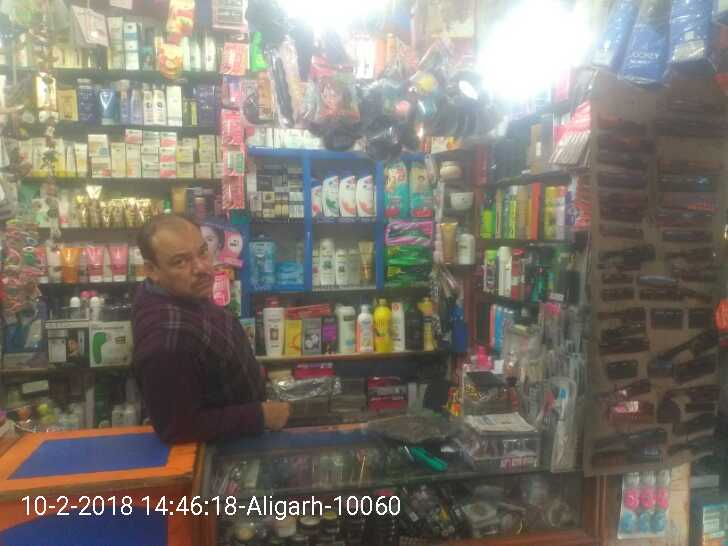venus: (250, 240, 275, 283), (275, 262, 304, 283)
